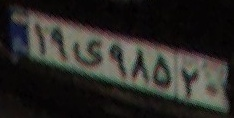character: (69, 28, 105, 71), (150, 49, 175, 94), (47, 20, 69, 65), (129, 44, 149, 88), (180, 63, 203, 99), (108, 41, 127, 82), (30, 17, 48, 59)
